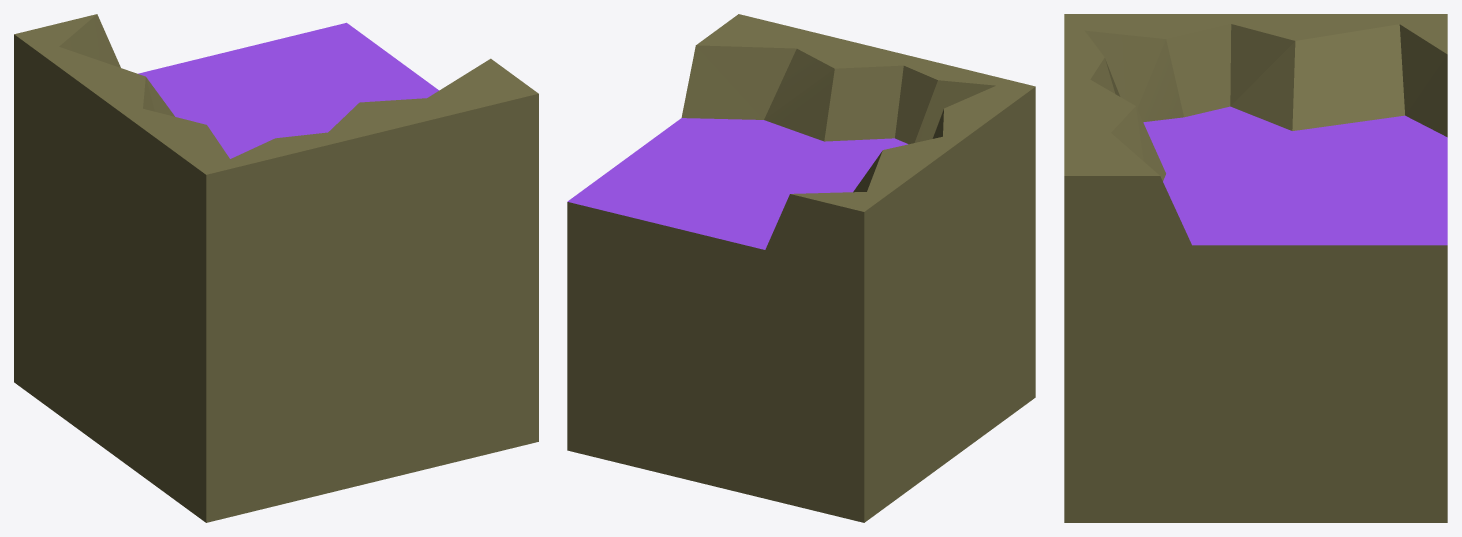
Rendered from tile_toxic_deep2_4a_01.fbx.
3 renders of one model, left to right at view 1: azimuth 30°, elevation 25°; view 2: azimuth 150°, elevation 25°; view 3: azimuth 270°, elevation 25°, orthographic. The views are drawn at different scales.
Parts seen in each view (by area): view 1: tile_toxic_deep2_4a_01; view 2: tile_toxic_deep2_4a_01; view 3: tile_toxic_deep2_4a_01.
Boxes of the visible parts, box(x1,y1,x2,y2) form: tile_toxic_deep2_4a_01: box(14, 14, 538, 522); tile_toxic_deep2_4a_01: box(567, 14, 1035, 522); tile_toxic_deep2_4a_01: box(1064, 14, 1447, 522).
Bounding box in the file's own units: 100 × 100 × 100.
